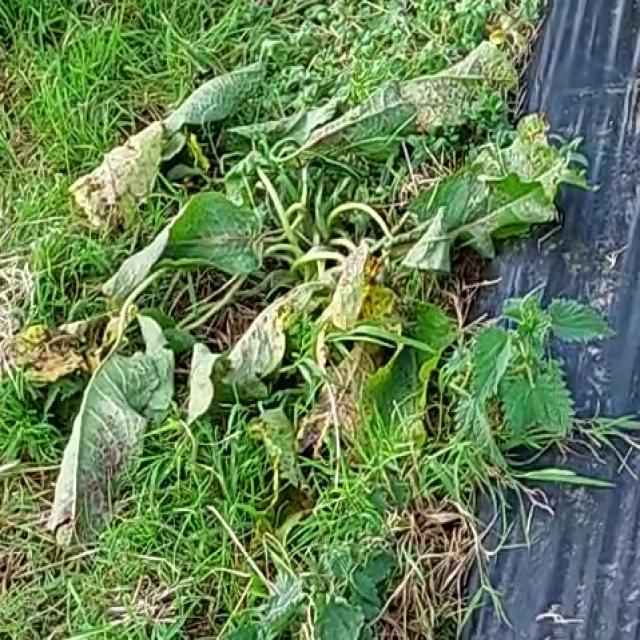organic waste: (60, 41, 577, 571)
